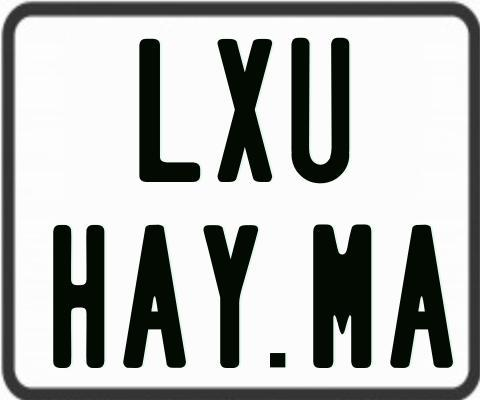A: (122, 225, 191, 370), (390, 225, 454, 369)
H: (52, 224, 106, 369)
L: (136, 37, 199, 185)
M: (310, 222, 374, 370)
U: (291, 36, 353, 184)
X: (215, 39, 272, 183)
Y: (201, 224, 256, 367)
